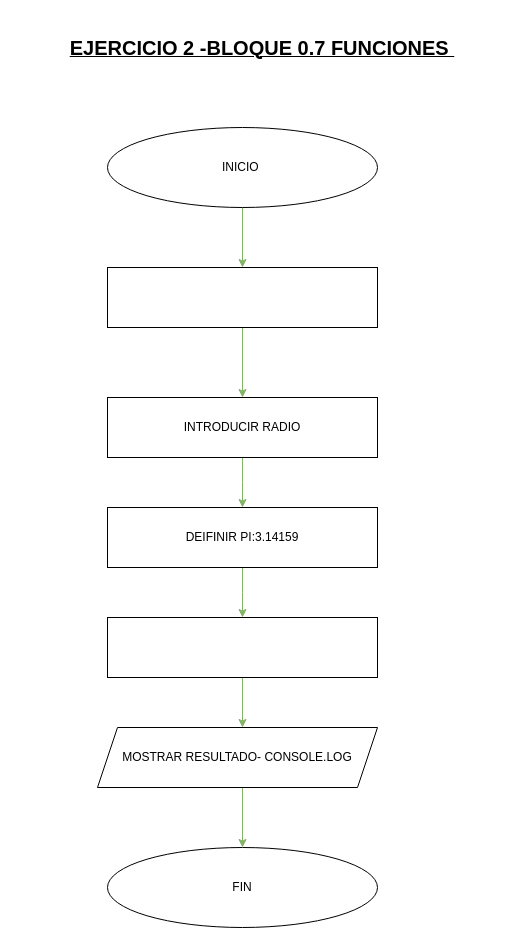
The diagram is 524 pixels wide and 945 high, and some of its shapes have lost their labels. The shapes that lost their labels are listed below. From the top down, each one's centre as x and y in pixels, then its label:
point 242,297: CALCULAR AREA CIRCULO
point 242,647: CALCULAR AREA: AREA:PI*RADIO**2
